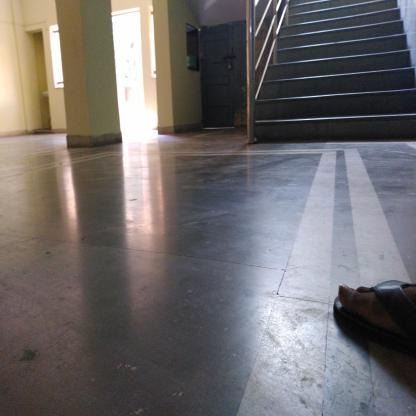stairs: (292, 4, 401, 148)
